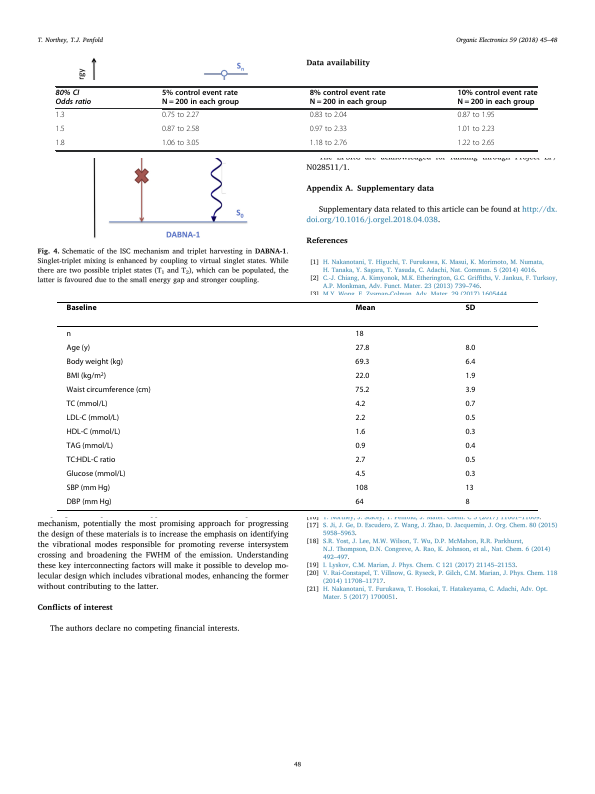borderless: (56, 300, 538, 510), (54, 85, 537, 150)
cell: (457, 89, 538, 107), (161, 89, 240, 107), (309, 89, 388, 107), (66, 385, 152, 395), (55, 89, 92, 106), (66, 469, 127, 479), (66, 357, 124, 367), (66, 427, 121, 437), (66, 413, 120, 423), (66, 455, 116, 465), (66, 441, 114, 451), (66, 497, 112, 507), (66, 483, 111, 493), (66, 399, 108, 409), (66, 371, 107, 381), (161, 112, 200, 119), (309, 112, 348, 119), (457, 112, 496, 119), (161, 126, 200, 133), (309, 126, 348, 133), (457, 126, 496, 133), (161, 140, 200, 147), (309, 140, 348, 147), (457, 140, 496, 147), (66, 303, 98, 311), (66, 343, 91, 353), (354, 303, 376, 311), (354, 343, 370, 353), (354, 357, 370, 367), (354, 371, 370, 381), (354, 385, 370, 395), (354, 483, 369, 493), (464, 343, 476, 353), (464, 357, 476, 367), (464, 371, 476, 381), (464, 385, 476, 395), (354, 399, 366, 409), (464, 399, 476, 409), (354, 413, 366, 423), (464, 413, 476, 423), (354, 427, 366, 437), (464, 427, 476, 437), (354, 441, 366, 451), (464, 441, 476, 451), (354, 455, 366, 465), (464, 455, 476, 465), (354, 469, 366, 479), (354, 329, 365, 339), (465, 469, 476, 479), (464, 483, 475, 493), (354, 497, 365, 507), (464, 303, 476, 311), (464, 497, 471, 507), (55, 112, 65, 119), (55, 126, 65, 133), (55, 140, 65, 147), (66, 329, 72, 339)
